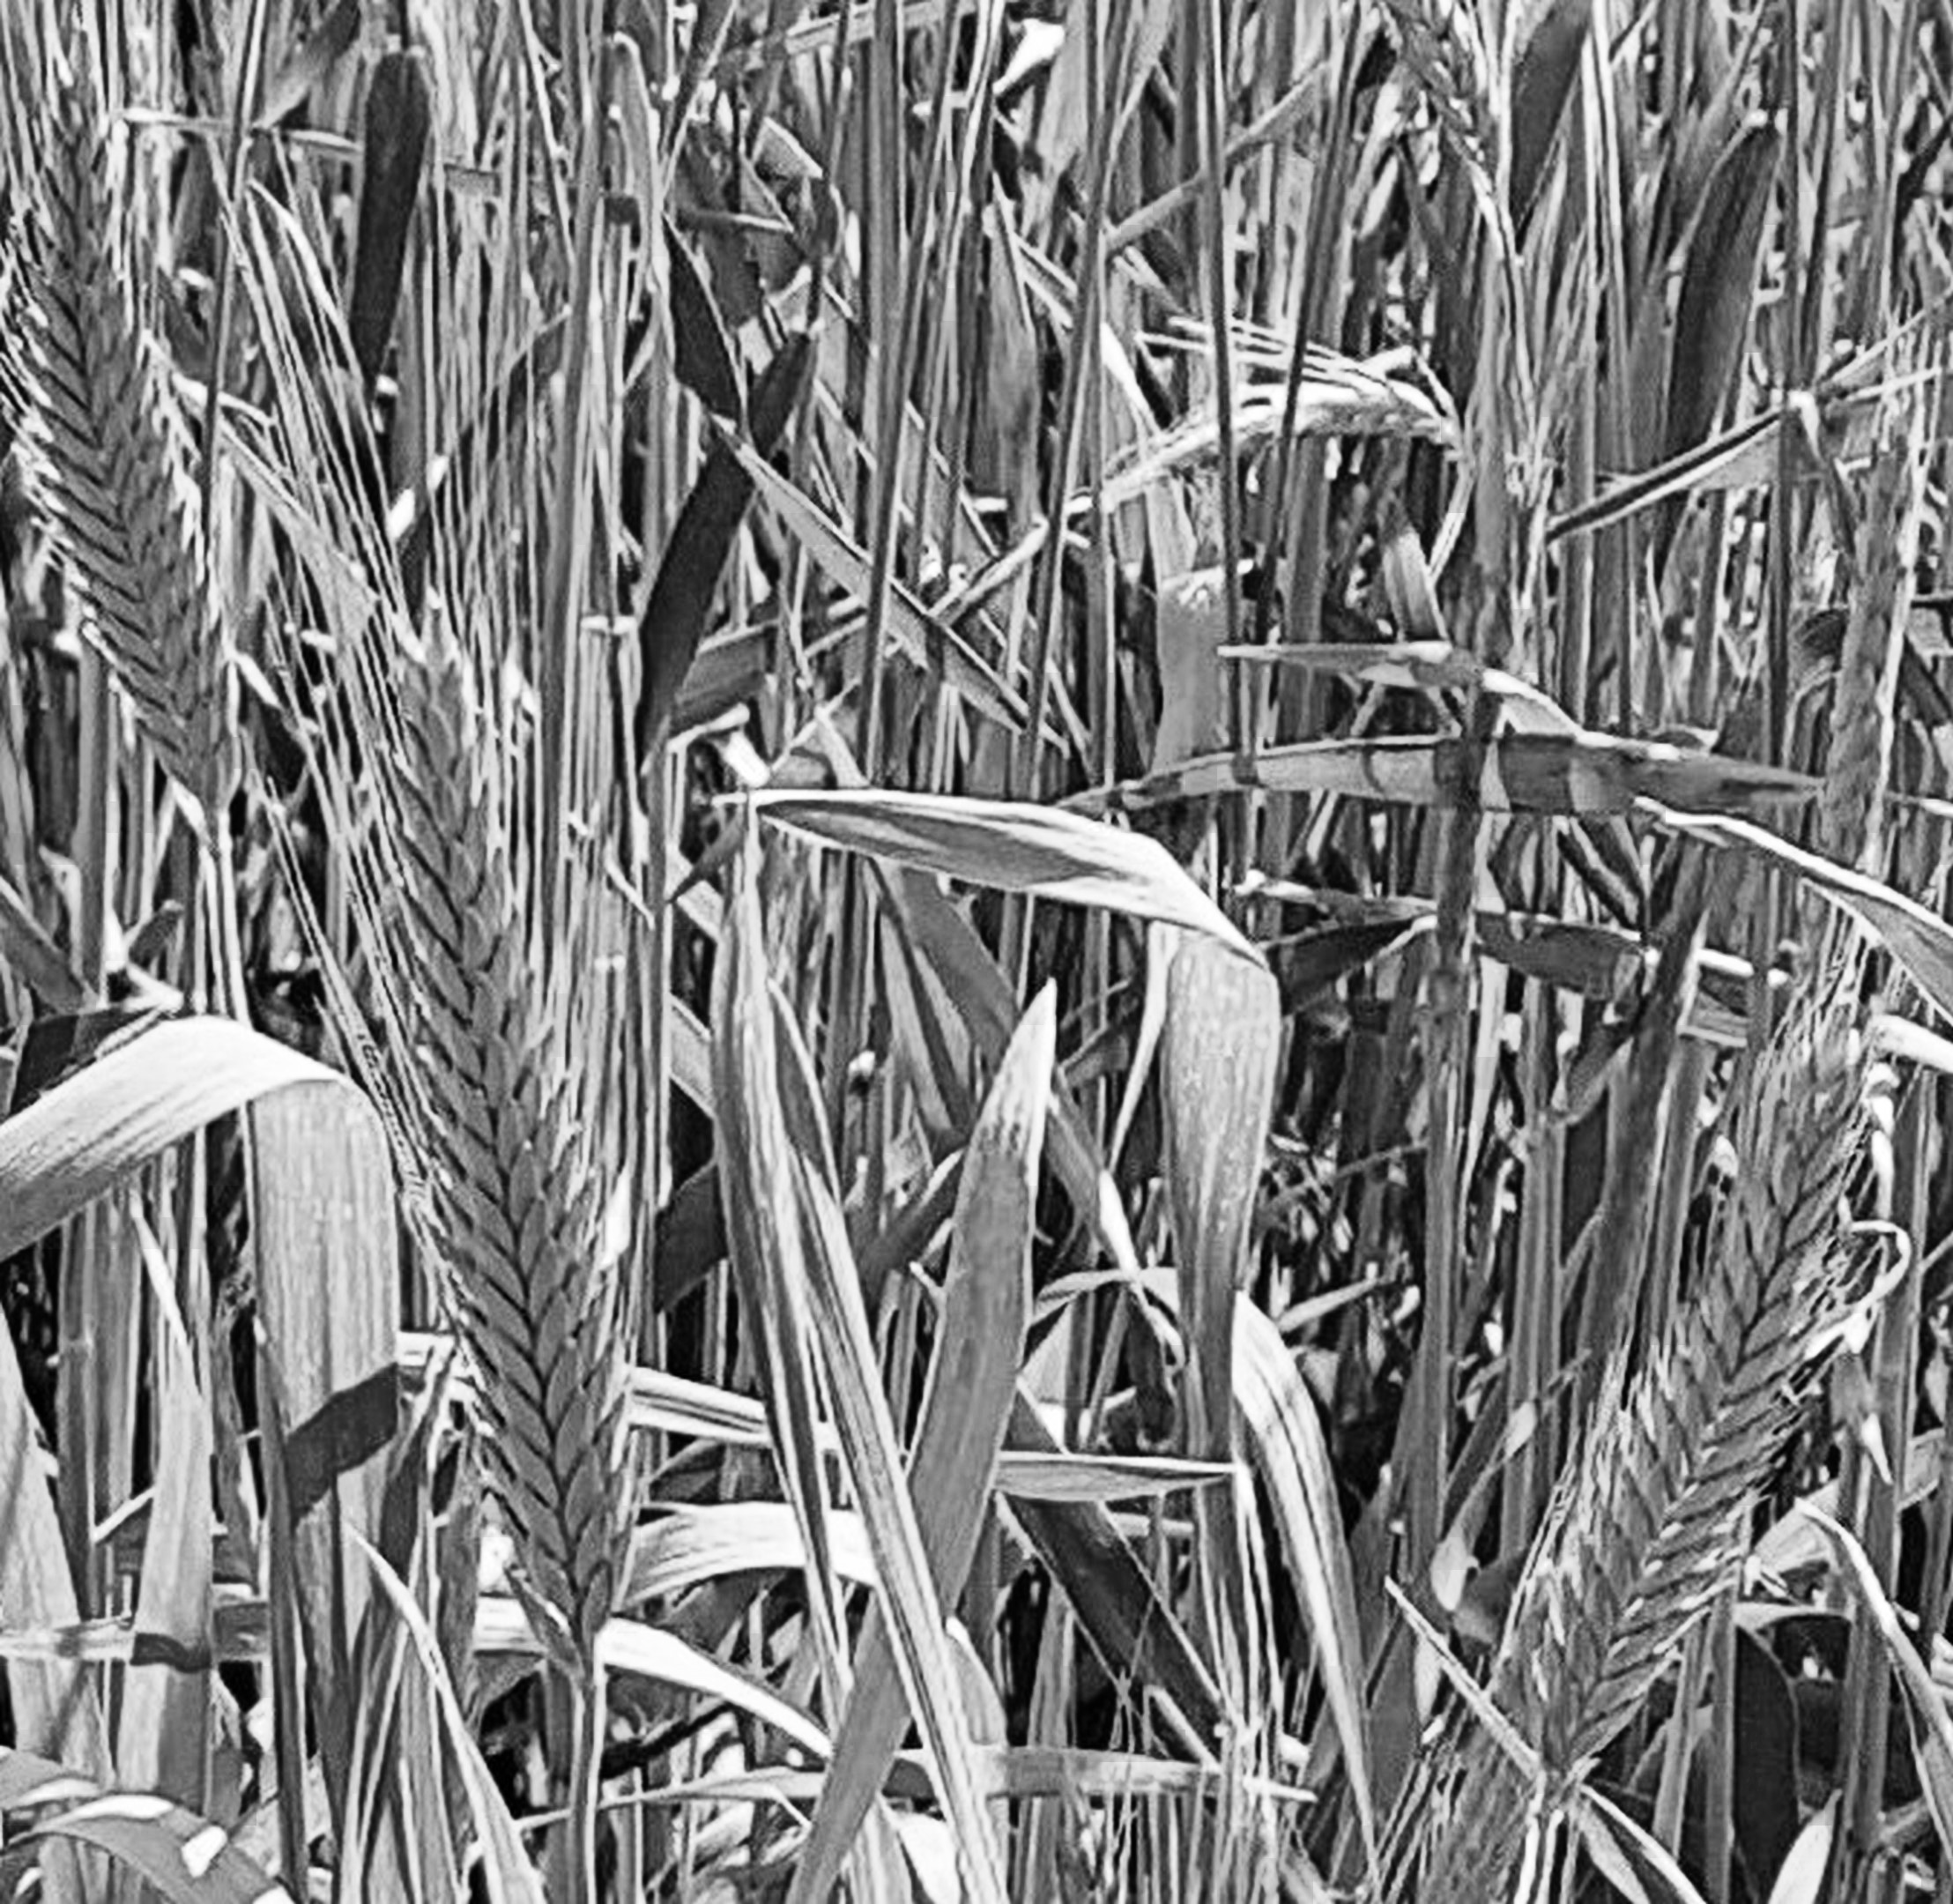Healthy Wheat: (1496, 1043, 1908, 1773), (391, 603, 664, 1634), (26, 89, 293, 823)
